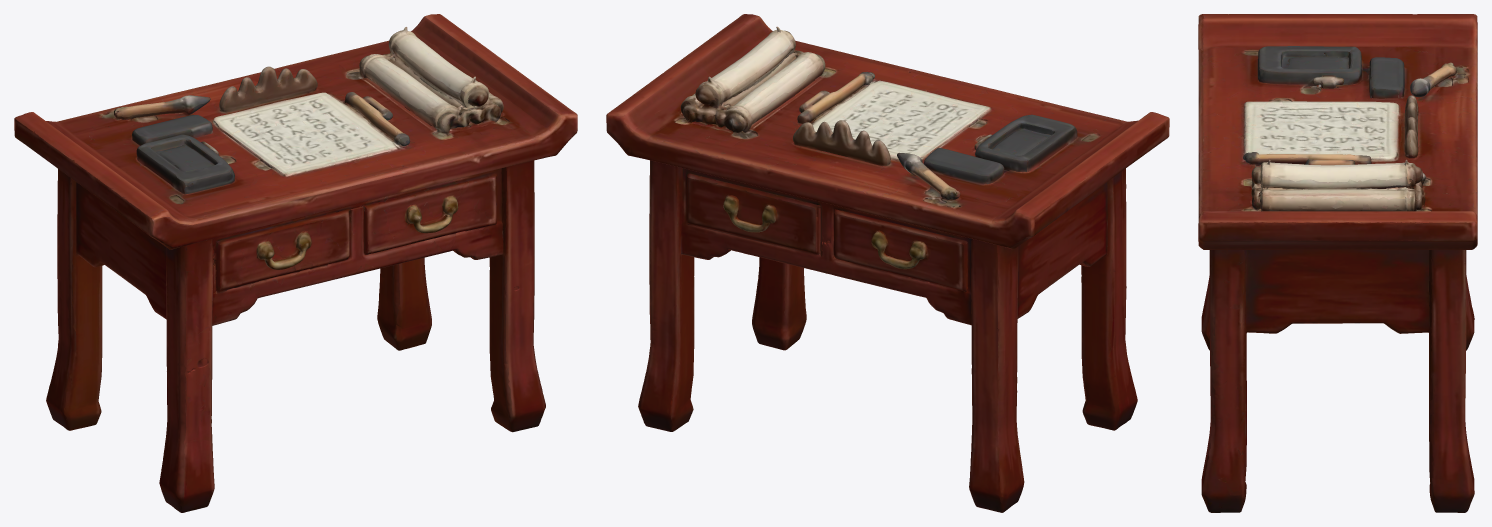
Rendered from desk-fixed.glb.
3 views of the same model, side by side, from view 1: azimuth 30°, elevation 25°; view 2: azimuth 150°, elevation 25°; view 3: azimuth 270°, elevation 25° (orthographic).
Visible parts, largest first — view 1: geometry_0; view 2: geometry_0; view 3: geometry_0.
Part boxes in pixels (x1,y1,x2,y2): geometry_0: (14, 14, 577, 512); geometry_0: (606, 14, 1169, 512); geometry_0: (1198, 14, 1477, 512).
Size of the model in its own units: 1.2 by 0.9031 by 0.6779.
Materials: 1 (1 with a texture image).
